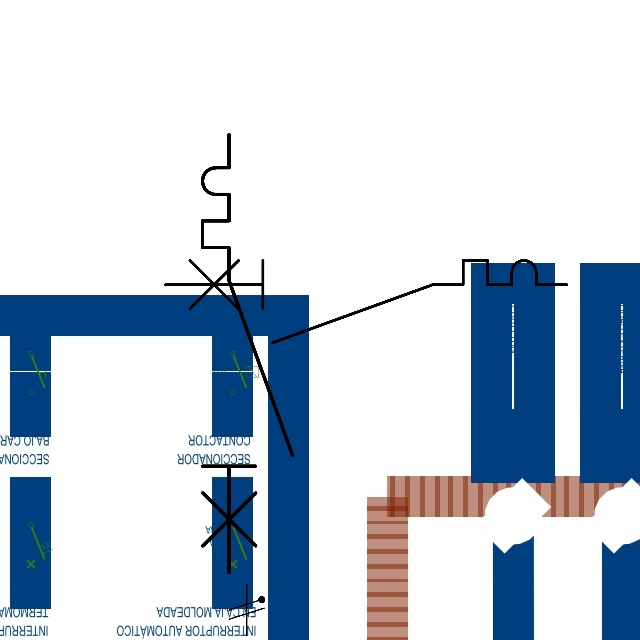interruptor_termomagnetico: (191, 123, 304, 584), (155, 250, 577, 353)
